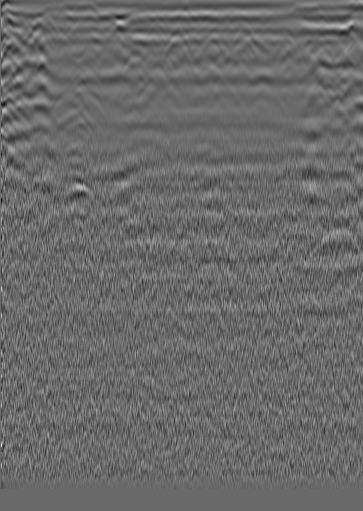가스: (58, 174, 104, 209)
상수: (307, 43, 327, 63)
우수: (169, 27, 189, 47)
